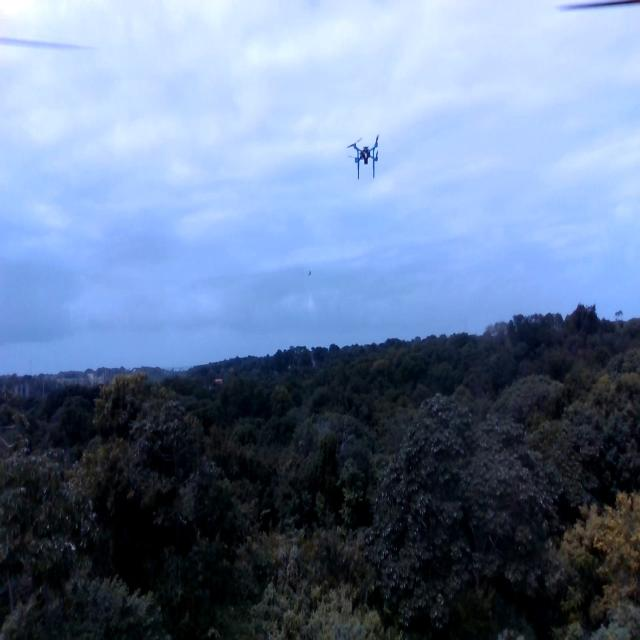-uav-: (343, 128, 389, 191)
